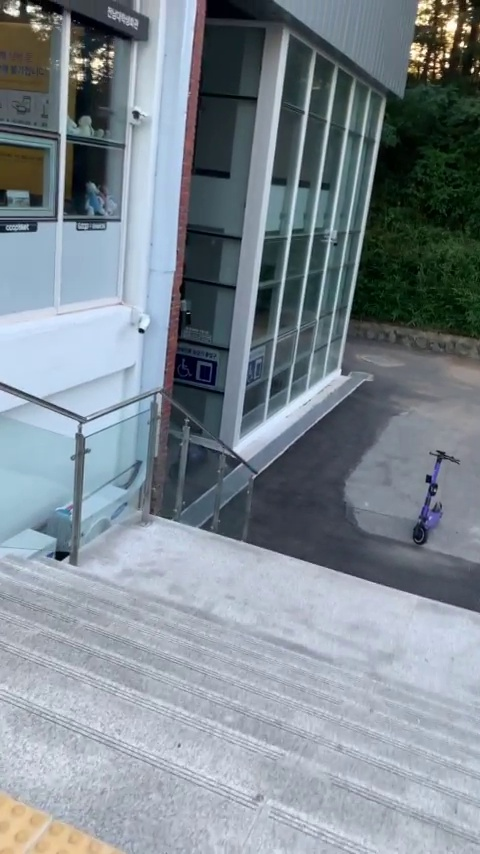beam: (405, 442, 460, 543)
